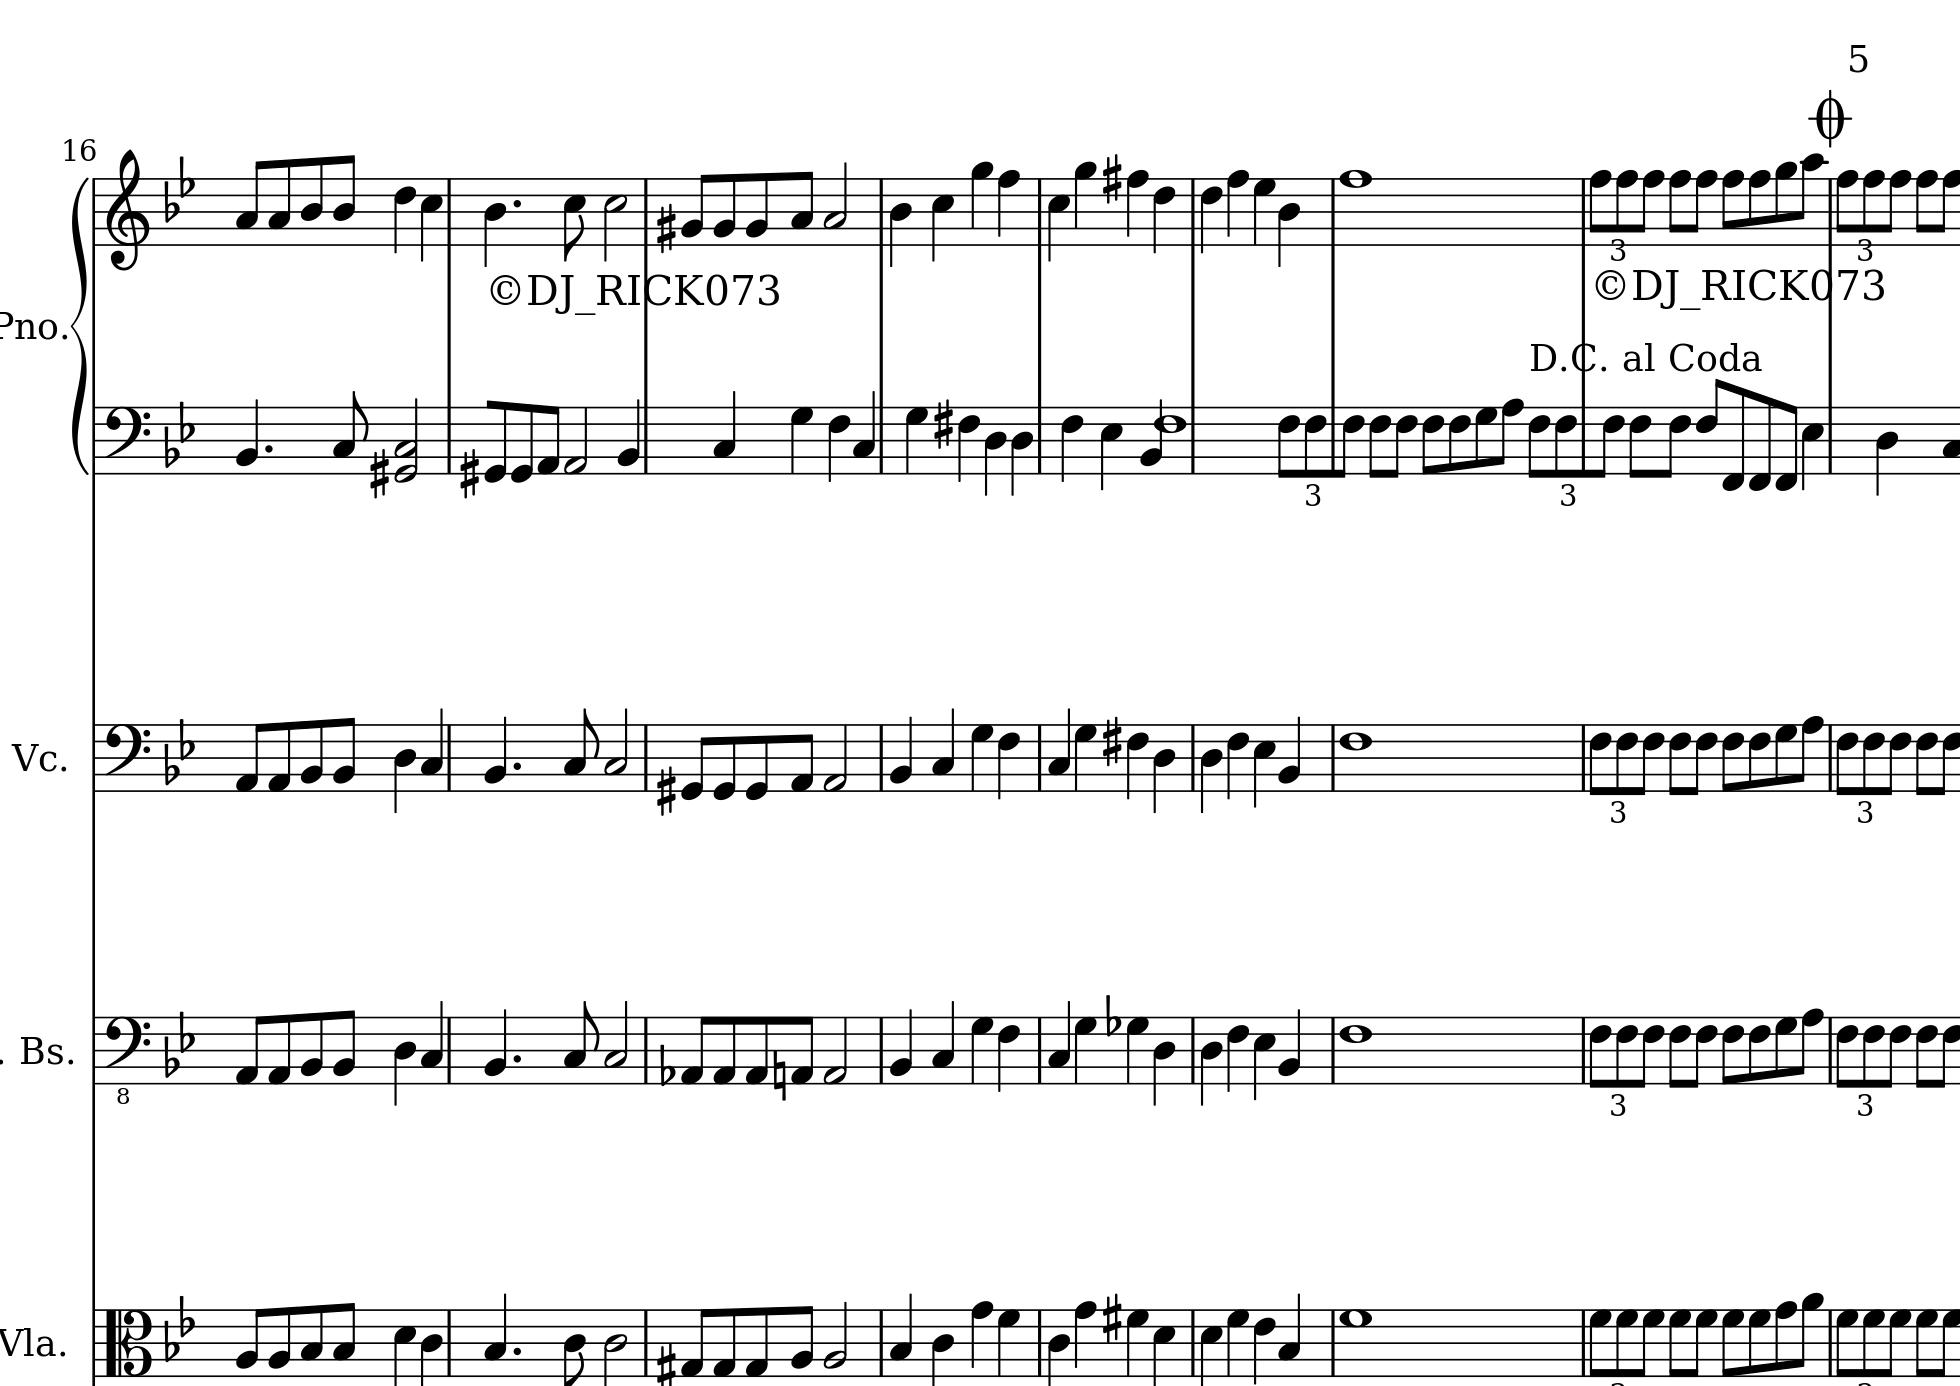1: (61, 135, 76, 163)
1_6: (1338, 1014, 1374, 1087), (1338, 721, 1374, 793)
1_7: (1338, 1306, 1374, 1378)
1_8: (1338, 168, 1371, 249)
2_0_3: (391, 399, 420, 486)
2_1: (822, 721, 850, 793), (822, 1014, 850, 1086), (562, 403, 589, 475)
2_2: (823, 1299, 849, 1375)
2_3: (822, 159, 849, 247), (604, 999, 631, 1084), (603, 706, 630, 790)
2_4: (603, 1308, 628, 1386)
2_5: (601, 177, 628, 262)
3: (1608, 799, 1629, 825), (1608, 1092, 1629, 1117), (1558, 481, 1578, 508), (1303, 481, 1323, 508), (1855, 798, 1875, 825), (1855, 1090, 1875, 1117), (1608, 237, 1627, 262), (1857, 237, 1875, 262)
4_2: (615, 396, 642, 475), (483, 712, 508, 793), (235, 396, 261, 475), (888, 712, 913, 792), (1278, 712, 1303, 792), (483, 1006, 508, 1086), (888, 1006, 913, 1084), (1278, 1006, 1303, 1084)
4_3: (852, 388, 877, 475), (483, 1291, 508, 1378), (420, 997, 445, 1083), (931, 999, 957, 1084), (888, 1291, 913, 1377), (420, 706, 445, 790), (931, 706, 957, 790), (1047, 999, 1072, 1083), (1278, 1291, 1302, 1378), (712, 388, 736, 474), (1047, 708, 1071, 793)
4_4: (888, 175, 913, 268), (1875, 403, 1900, 496), (481, 177, 507, 268), (1009, 405, 1035, 496), (1278, 175, 1302, 270), (391, 721, 415, 814), (984, 405, 1008, 496), (391, 1015, 415, 1105), (1152, 1015, 1176, 1105), (1200, 1015, 1224, 1105), (1153, 721, 1176, 813), (420, 1308, 445, 1386), (930, 1308, 955, 1386), (1200, 723, 1221, 814), (1047, 1306, 1071, 1384)
4_5: (1098, 403, 1125, 492), (930, 175, 955, 262), (418, 175, 442, 265), (1800, 403, 1824, 493), (1047, 175, 1071, 262), (1252, 721, 1276, 808), (1252, 1014, 1276, 1101), (391, 1306, 415, 1384), (1152, 1306, 1176, 1384)
4_6: (1059, 403, 1086, 484), (955, 405, 981, 484), (997, 721, 1023, 799), (997, 1014, 1023, 1092), (1252, 1306, 1278, 1383), (391, 175, 415, 256), (1152, 175, 1176, 255), (826, 405, 850, 484), (1126, 721, 1150, 801), (1227, 721, 1249, 805), (1200, 175, 1224, 253), (1227, 1015, 1249, 1096)
4_7: (969, 1012, 996, 1086), (969, 721, 996, 793), (1074, 1014, 1101, 1084), (1225, 1306, 1251, 1378), (789, 403, 814, 474), (903, 403, 928, 474), (1074, 720, 1099, 790), (1125, 1014, 1150, 1084), (997, 1306, 1023, 1375), (1125, 1306, 1150, 1375), (1251, 177, 1275, 247)
4_8: (969, 1297, 996, 1377), (996, 168, 1021, 246), (1074, 1297, 1099, 1375), (1125, 168, 1149, 249), (1225, 168, 1249, 247)
4_9: (969, 159, 993, 246), (1072, 160, 1096, 246)
5: (1848, 39, 1870, 73)
6: (79, 133, 97, 163)
8_-1: (1720, 385, 1747, 493), (1749, 390, 1773, 492), (1774, 397, 1798, 490)
8_0: (681, 721, 711, 802), (483, 399, 508, 486), (712, 721, 738, 802), (510, 400, 534, 484), (745, 721, 769, 802)
8_1: (232, 720, 265, 793), (234, 1012, 265, 1086), (679, 1306, 709, 1378), (679, 1014, 709, 1084), (267, 718, 292, 793), (267, 1012, 292, 1086), (744, 1012, 769, 1086), (744, 1303, 769, 1377), (789, 721, 814, 793), (712, 1012, 736, 1086), (712, 1305, 736, 1378), (535, 403, 559, 475), (790, 1014, 814, 1086)
8_10: (1797, 153, 1828, 247)
8_2: (679, 171, 709, 246), (234, 1306, 265, 1375), (744, 169, 769, 247), (331, 715, 357, 793), (298, 717, 324, 793), (298, 1009, 324, 1086), (331, 1008, 357, 1084), (789, 1303, 814, 1377), (712, 172, 736, 247), (268, 1303, 292, 1377)
8_3: (331, 388, 367, 475), (562, 706, 598, 792), (562, 999, 598, 1084), (234, 157, 267, 247), (267, 157, 292, 249), (789, 169, 814, 247), (331, 1300, 357, 1378), (298, 1302, 324, 1378)
8_4: (298, 154, 325, 247), (331, 151, 357, 247), (561, 1306, 586, 1386)
8_5: (559, 177, 586, 262)
8_6: (1695, 378, 1726, 478), (1593, 403, 1626, 478), (1660, 403, 1692, 478), (1336, 403, 1366, 478), (1690, 1014, 1719, 1087), (1275, 403, 1302, 480), (1392, 403, 1419, 478), (1638, 721, 1665, 795), (1692, 721, 1719, 795), (1638, 1014, 1665, 1087), (1885, 1014, 1912, 1087), (1303, 403, 1329, 478), (1885, 721, 1911, 795), (1368, 403, 1392, 478), (1527, 403, 1551, 478), (1552, 403, 1576, 478), (1629, 403, 1653, 478), (1668, 721, 1692, 796), (1915, 721, 1939, 796), (1668, 1014, 1692, 1089), (1590, 721, 1612, 796), (1615, 721, 1638, 796), (1836, 721, 1858, 796), (1938, 720, 1960, 795), (1590, 1014, 1612, 1089), (1615, 1014, 1638, 1089), (1915, 1014, 1938, 1089), (1722, 720, 1744, 793), (1722, 1012, 1744, 1086), (1836, 1015, 1858, 1089), (1938, 1014, 1960, 1087), (1422, 403, 1444, 475), (1449, 403, 1471, 475), (1749, 721, 1771, 793), (1749, 1014, 1771, 1084), (1863, 721, 1884, 796), (1863, 1014, 1884, 1089)
8_7: (1884, 1306, 1912, 1377), (1692, 1306, 1719, 1378), (1638, 1306, 1665, 1377), (1474, 403, 1498, 475), (1614, 1306, 1638, 1378), (1915, 1306, 1939, 1378), (1668, 1306, 1692, 1377), (1722, 1306, 1746, 1377), (1747, 1308, 1771, 1377), (1836, 1308, 1860, 1377), (1861, 1308, 1885, 1377), (1590, 1306, 1612, 1378), (1774, 721, 1797, 792), (1774, 1015, 1797, 1084), (1938, 1308, 1960, 1377)
8_8: (1797, 714, 1827, 793), (1797, 1006, 1827, 1086), (1692, 166, 1719, 247), (1638, 168, 1665, 247), (1497, 396, 1524, 475), (1614, 169, 1639, 252), (1887, 168, 1912, 247), (1588, 169, 1612, 250), (1668, 168, 1692, 247), (1861, 168, 1885, 247), (1915, 168, 1939, 247), (1747, 169, 1771, 247), (1836, 169, 1860, 247), (1938, 166, 1960, 247), (1722, 169, 1744, 247), (1774, 1299, 1797, 1377)
8_9: (1797, 1291, 1824, 1377), (1774, 160, 1797, 247)
B_F: (163, 151, 196, 223), (163, 715, 196, 786), (163, 400, 196, 469), (163, 1008, 196, 1077), (163, 1291, 196, 1360)
Cclef: (103, 1306, 154, 1377)
Coda: (1809, 88, 1852, 145)
Fclef: (103, 721, 151, 793), (103, 403, 151, 474)
Flat: (657, 1041, 676, 1086), (1105, 994, 1120, 1036)
Gclef: (103, 147, 150, 271)
Lower_Fclef: (102, 1012, 151, 1102)
Natural: (772, 1048, 787, 1101)
Pno: (1, 307, 57, 340)
Sharp: (654, 202, 676, 255), (457, 447, 480, 499), (1101, 151, 1122, 205), (369, 445, 390, 499), (655, 763, 676, 816), (933, 397, 954, 448), (1102, 1291, 1122, 1344), (654, 1341, 676, 1386), (1102, 715, 1122, 763)
Single_barline: (1324, 405, 1342, 475), (871, 177, 889, 244), (1032, 178, 1050, 246), (1185, 180, 1203, 247), (1185, 723, 1203, 790), (1032, 405, 1050, 471), (1185, 1015, 1203, 1081), (1185, 1309, 1203, 1375), (1323, 1309, 1341, 1375), (1575, 1309, 1593, 1375), (1822, 1015, 1839, 1086), (85, 1308, 102, 1378), (1575, 1015, 1591, 1084), (441, 405, 457, 472), (637, 405, 654, 472), (1032, 723, 1048, 790), (1575, 724, 1591, 792), (441, 178, 457, 244), (1324, 178, 1341, 244), (1575, 178, 1591, 244), (874, 406, 891, 472), (1822, 406, 1839, 472), (873, 724, 889, 790), (1324, 724, 1341, 790), (1032, 1017, 1048, 1083), (441, 1309, 457, 1375), (637, 1309, 654, 1375), (873, 1309, 889, 1375), (1032, 1309, 1048, 1375), (1324, 1017, 1341, 1081), (87, 177, 102, 246), (1824, 177, 1839, 244), (1186, 405, 1201, 472), (1824, 724, 1839, 792), (637, 1015, 652, 1083), (1824, 1309, 1839, 1377), (637, 178, 652, 244), (87, 724, 102, 790), (442, 724, 457, 790), (637, 724, 652, 790), (442, 1015, 457, 1081), (874, 1015, 889, 1081), (87, 1015, 100, 1083), (88, 406, 102, 472), (1578, 405, 1591, 469)
Vc: (10, 738, 61, 778)
Vla: (1, 1321, 58, 1366)
dot: (508, 196, 523, 210), (510, 1344, 523, 1357), (511, 757, 523, 772), (262, 441, 274, 454), (511, 1051, 523, 1065)
